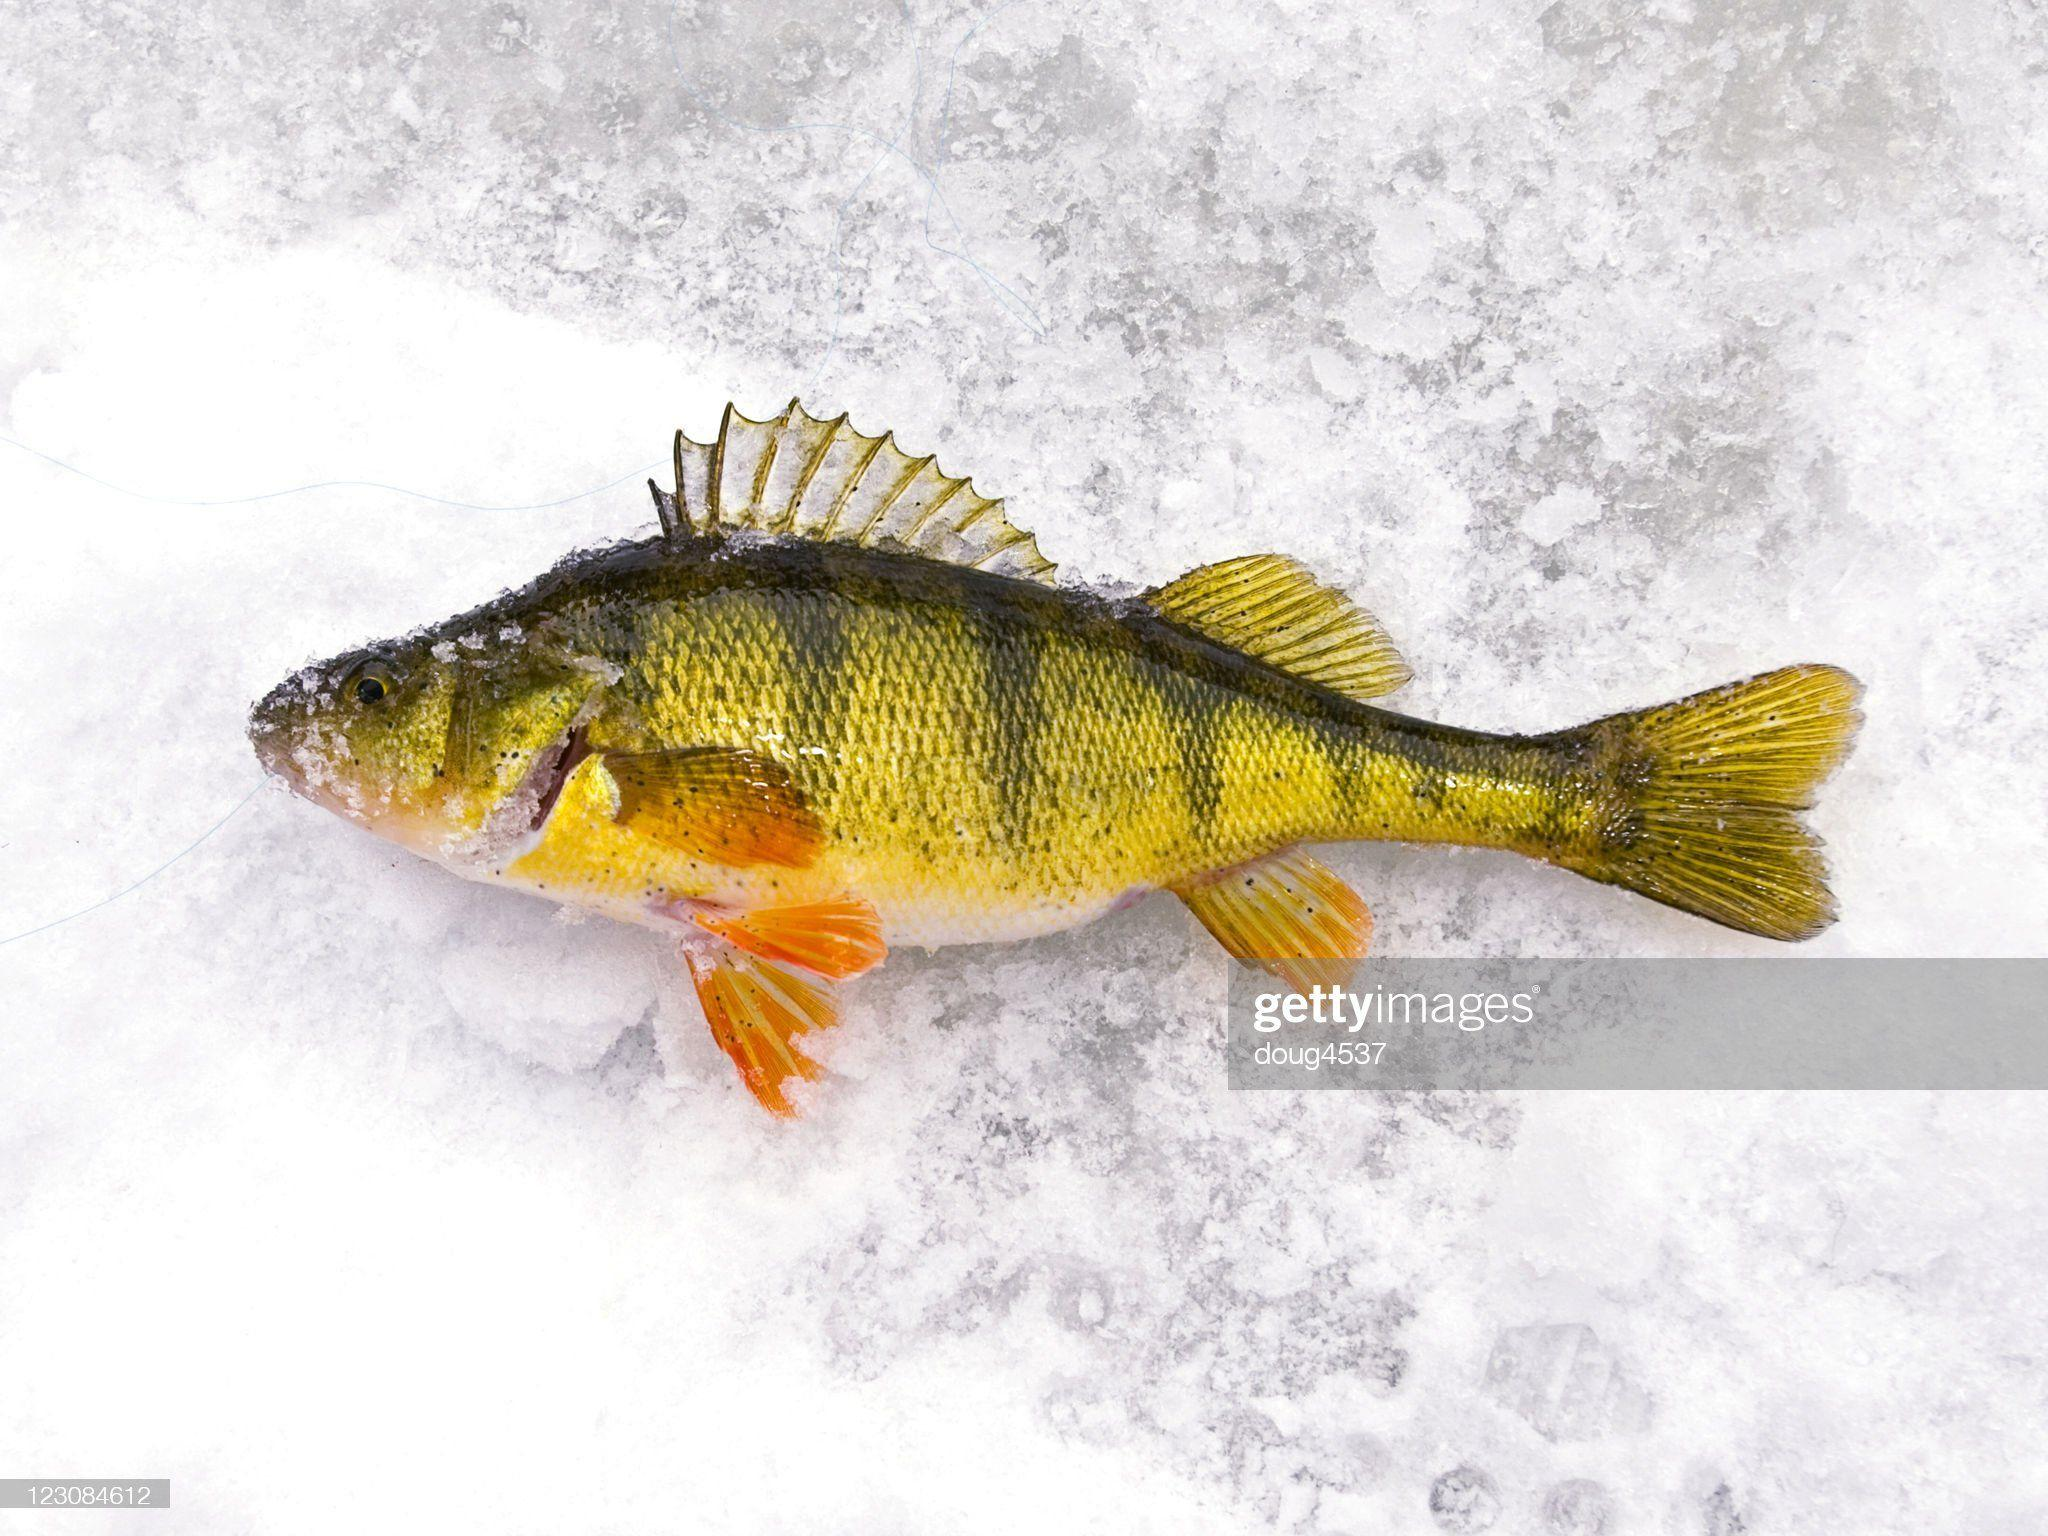Perch: (258, 384, 1864, 1126)
